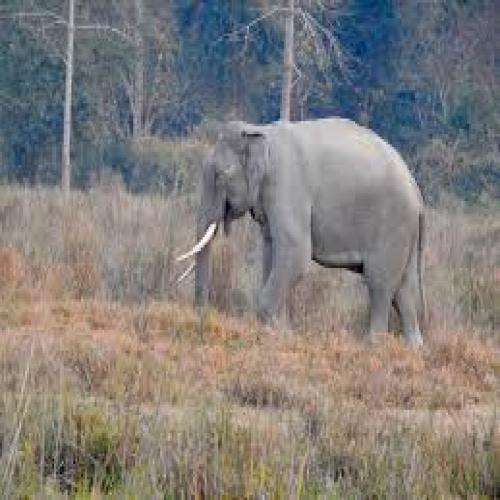asian_elephant-endangered: (177, 116, 429, 349)
